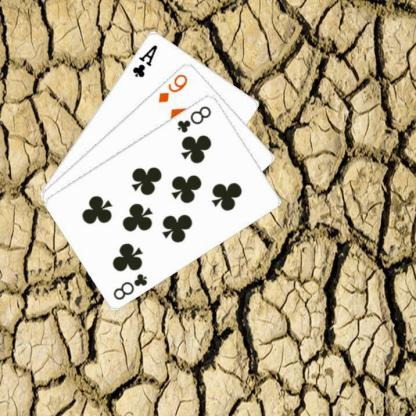8C: (174, 102, 213, 134), (110, 270, 149, 301)
9D: (156, 71, 189, 104)
AC: (130, 42, 159, 78)
